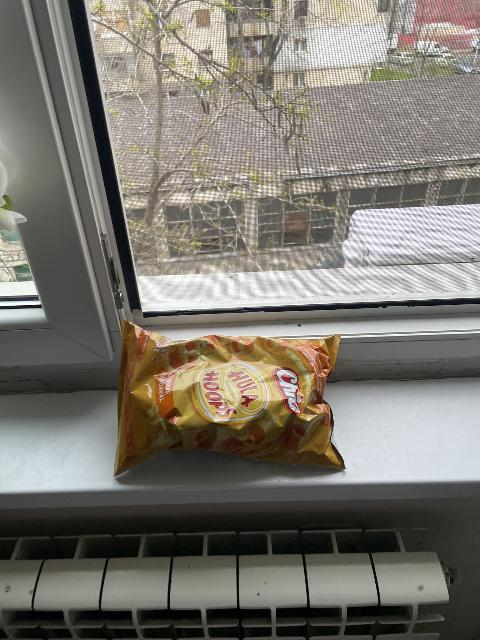Chio Hula Hoops Cheese 70g: (114, 321, 345, 472)
